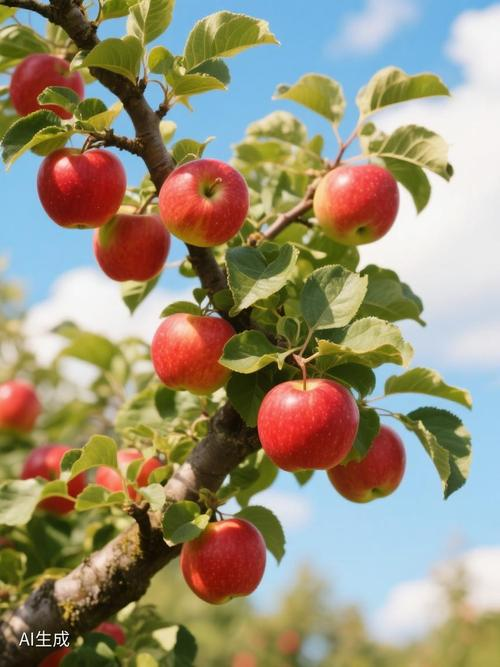ripe: (245, 369, 366, 482), (174, 516, 284, 606), (157, 157, 252, 250), (150, 299, 245, 391), (31, 140, 124, 230), (325, 417, 415, 505), (90, 211, 165, 288)
unripe: (305, 162, 415, 247)
